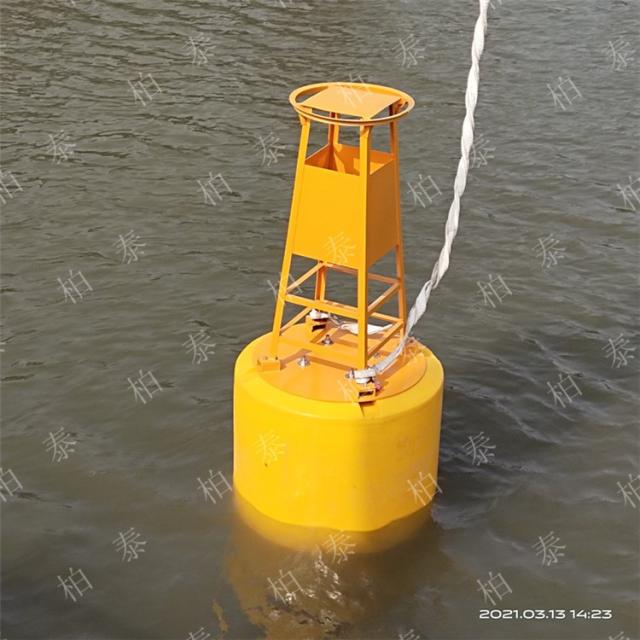buoy: (218, 74, 453, 527)
